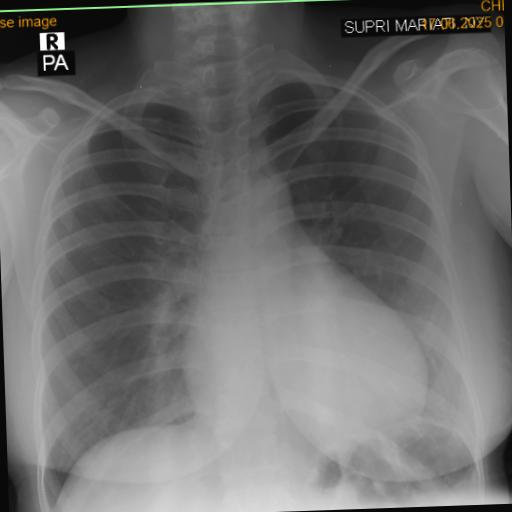kardiomegali: (170, 252, 440, 448)
